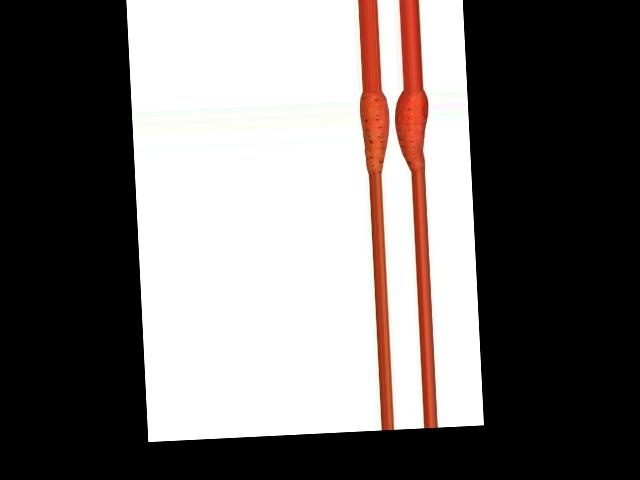sweet_potato: (359, 90, 392, 172)
